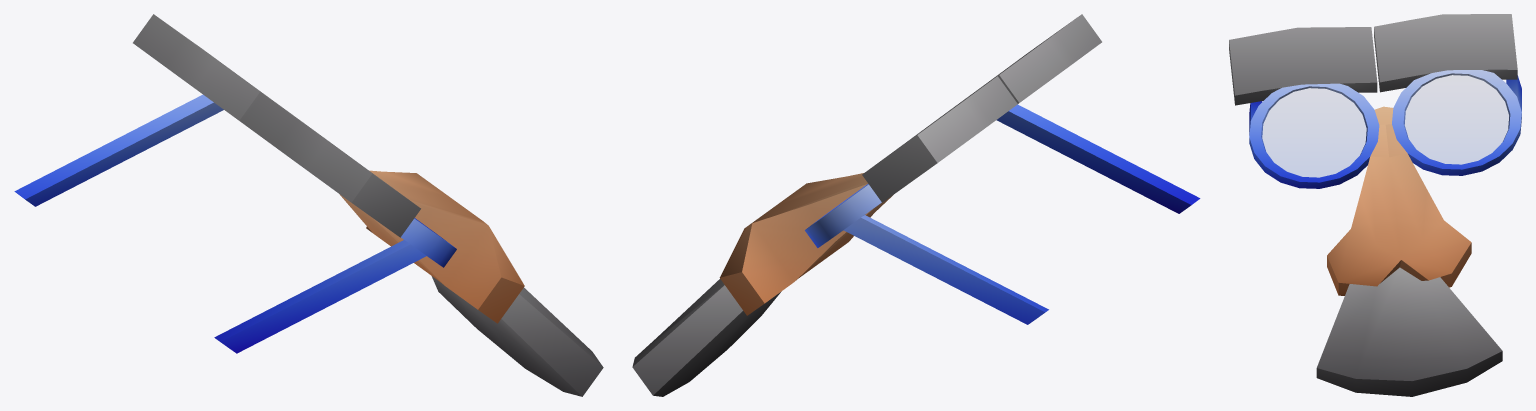
The model's file is Groucho.fbx.
3 renders of one model, left to right at view 1: azimuth 30°, elevation 25°; view 2: azimuth 150°, elevation 25°; view 3: azimuth 270°, elevation 25°, orthographic. The views are drawn at different scales.
Visible parts, largest first — view 1: Groucho; view 2: Groucho; view 3: Groucho.
Part boxes in pixels (<box>): Groucho: <box>14,14,603,396</box>; Groucho: <box>632,14,1200,396</box>; Groucho: <box>1229,14,1521,396</box>.
Size of the model in its own units: 226 by 173 by 167.
1 material, 1 textured.
